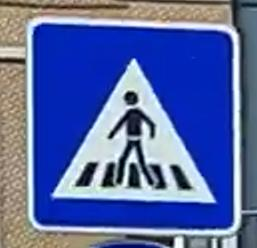Passagem para peoes: (18, 17, 248, 241)
